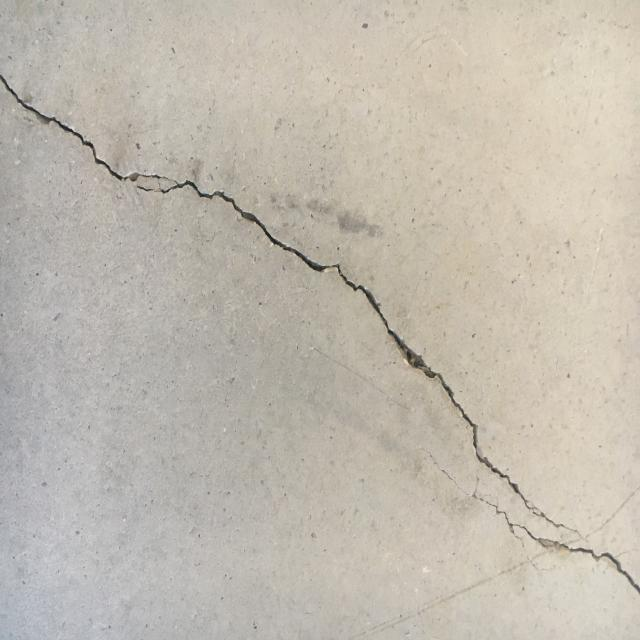Rachadura: (0, 69, 640, 609)
